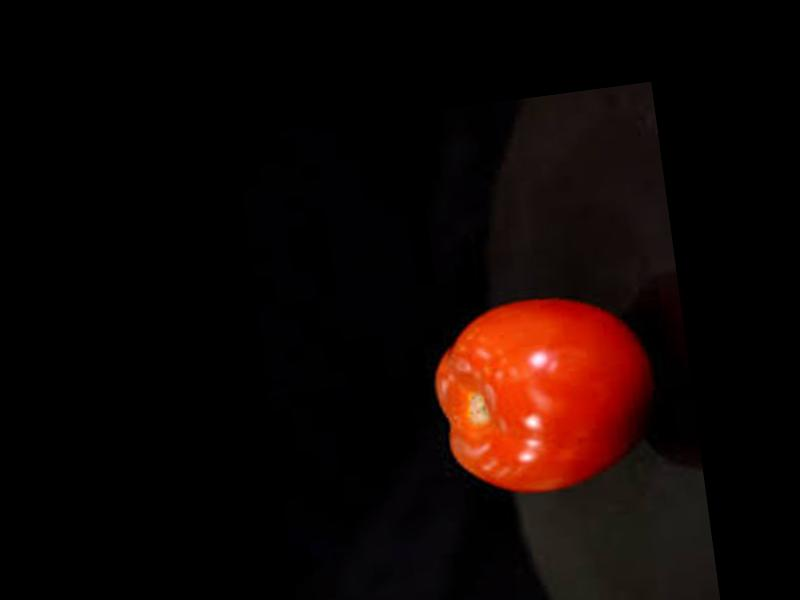Tomato: (422, 282, 666, 505)
